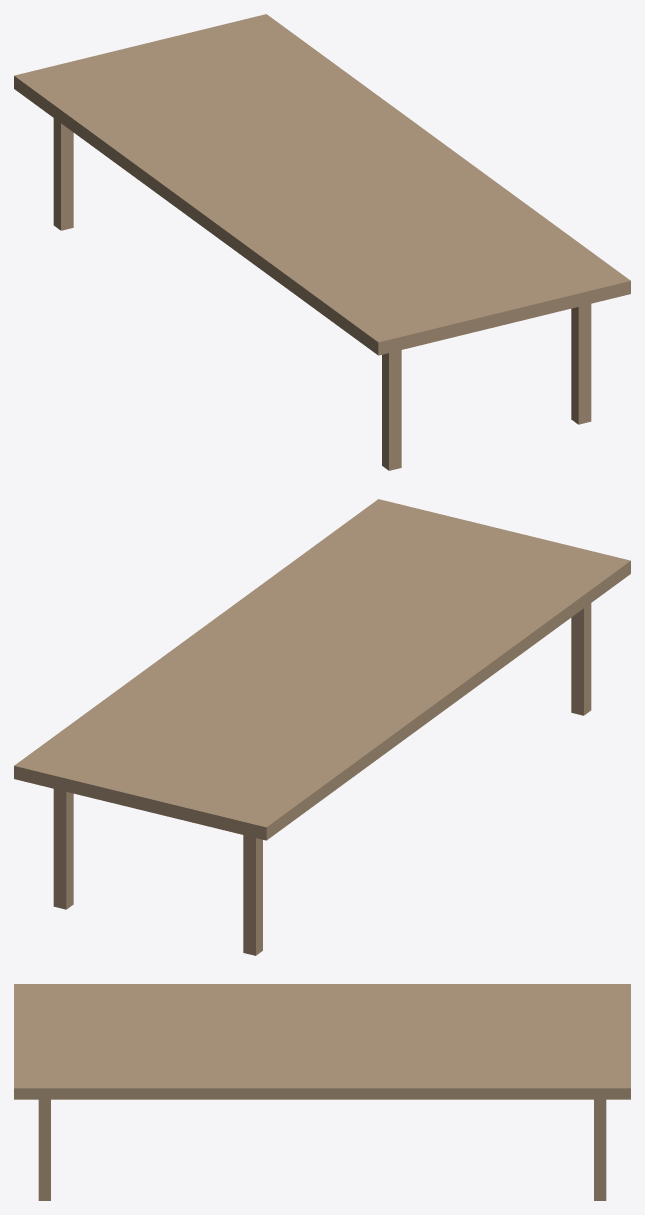
Rendered from table.glb.
3 renders of one model, top to bottom at view 1: azimuth 30°, elevation 25°; view 2: azimuth 150°, elevation 25°; view 3: azimuth 270°, elevation 25°, orthographic. The views are drawn at different scales.
Parts seen in each view (by area): view 1: Mesh_Mesh_head_geo.001_lambert2SG.001; view 2: Mesh_Mesh_head_geo.001_lambert2SG.001; view 3: Mesh_Mesh_head_geo.001_lambert2SG.001.
Part boxes in pixels (box(x1,y1,x2,y2)): Mesh_Mesh_head_geo.001_lambert2SG.001: box(14, 14, 630, 470); Mesh_Mesh_head_geo.001_lambert2SG.001: box(14, 499, 630, 955); Mesh_Mesh_head_geo.001_lambert2SG.001: box(14, 984, 630, 1200).
Size of the model in its own units: 2 by 1.1 by 5.
